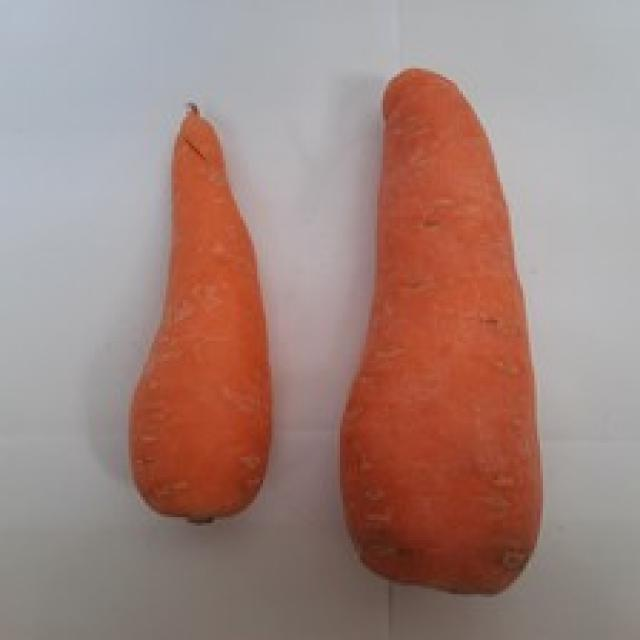carrot: (338, 74, 542, 595), (127, 107, 278, 520)
